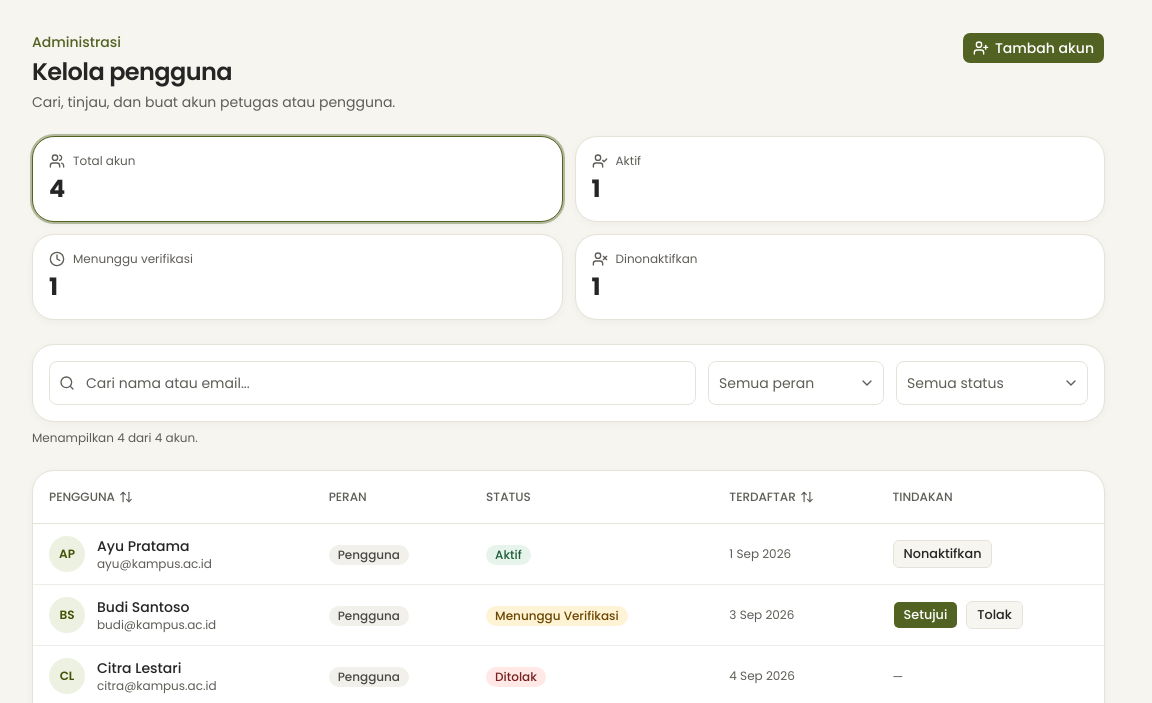
Test case: AdminUsers (kelola akun) › memperbarui status di client setelah verifikasi berhasil
The image size is (1152, 703).
expect the text "Budi Santoso" is shown: met, box x1=97 y1=597 x2=189 y2=617
Click the button "Setujui" at (925, 615), box x1=892 y1=601 x2=958 y2=629
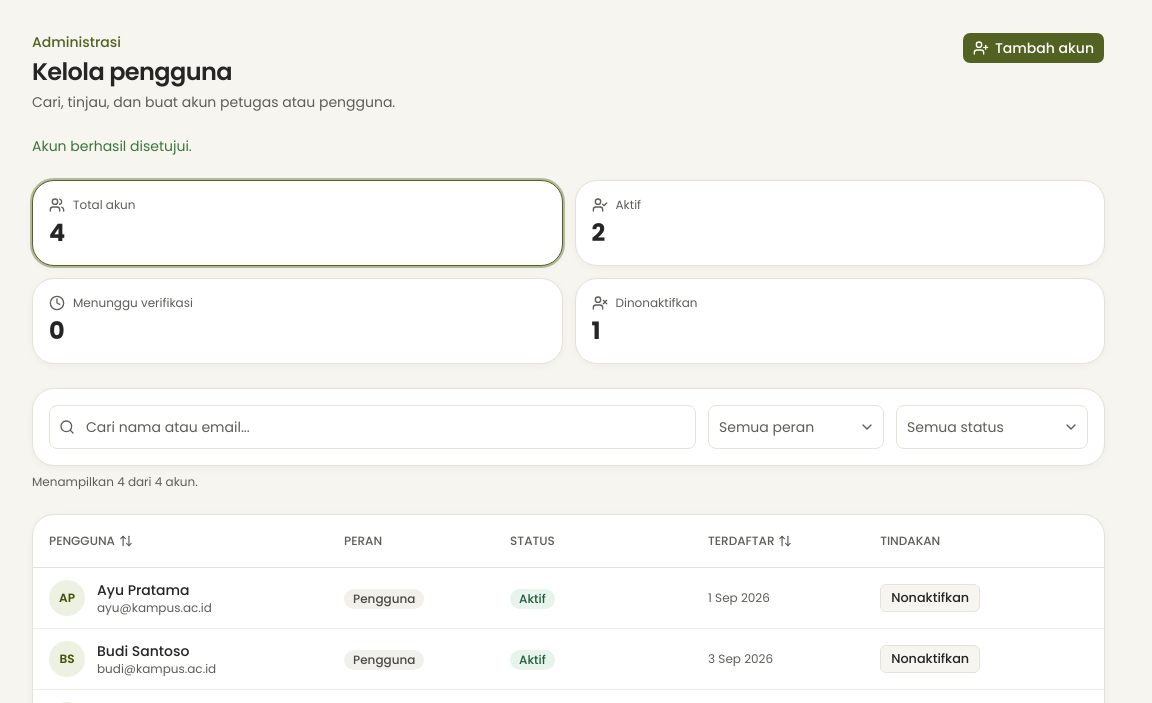
expect the icon "Aktif" in the row of "BS" is shown: met, box x1=519 y1=650 x2=546 y2=668
expect the button "Nonaktifkan" in the row of "BS" is shown: met, box x1=880 y1=645 x2=980 y2=673
